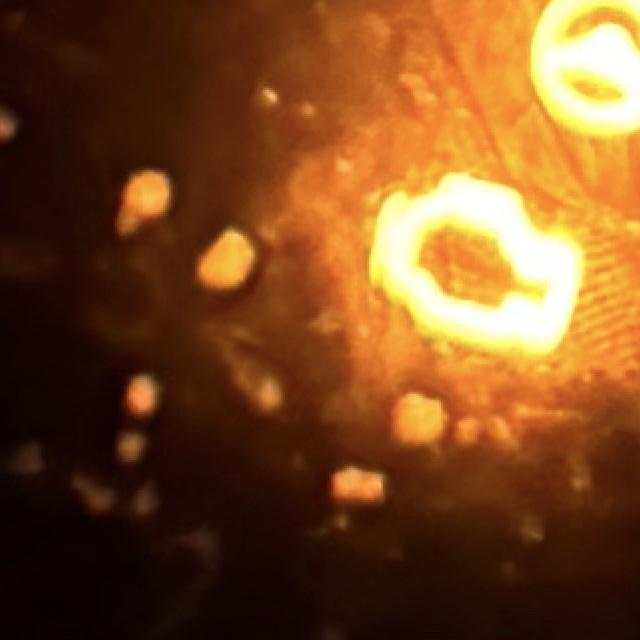Engine Issue: (369, 174, 587, 357)
